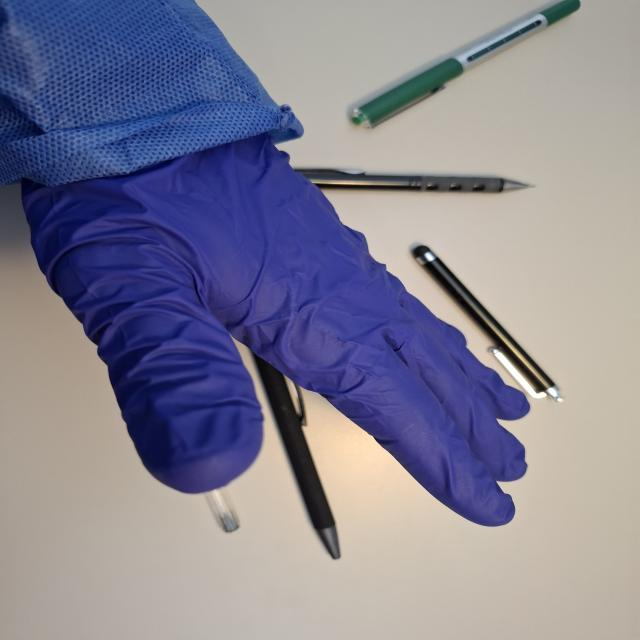glove_on: (17, 116, 533, 530)
